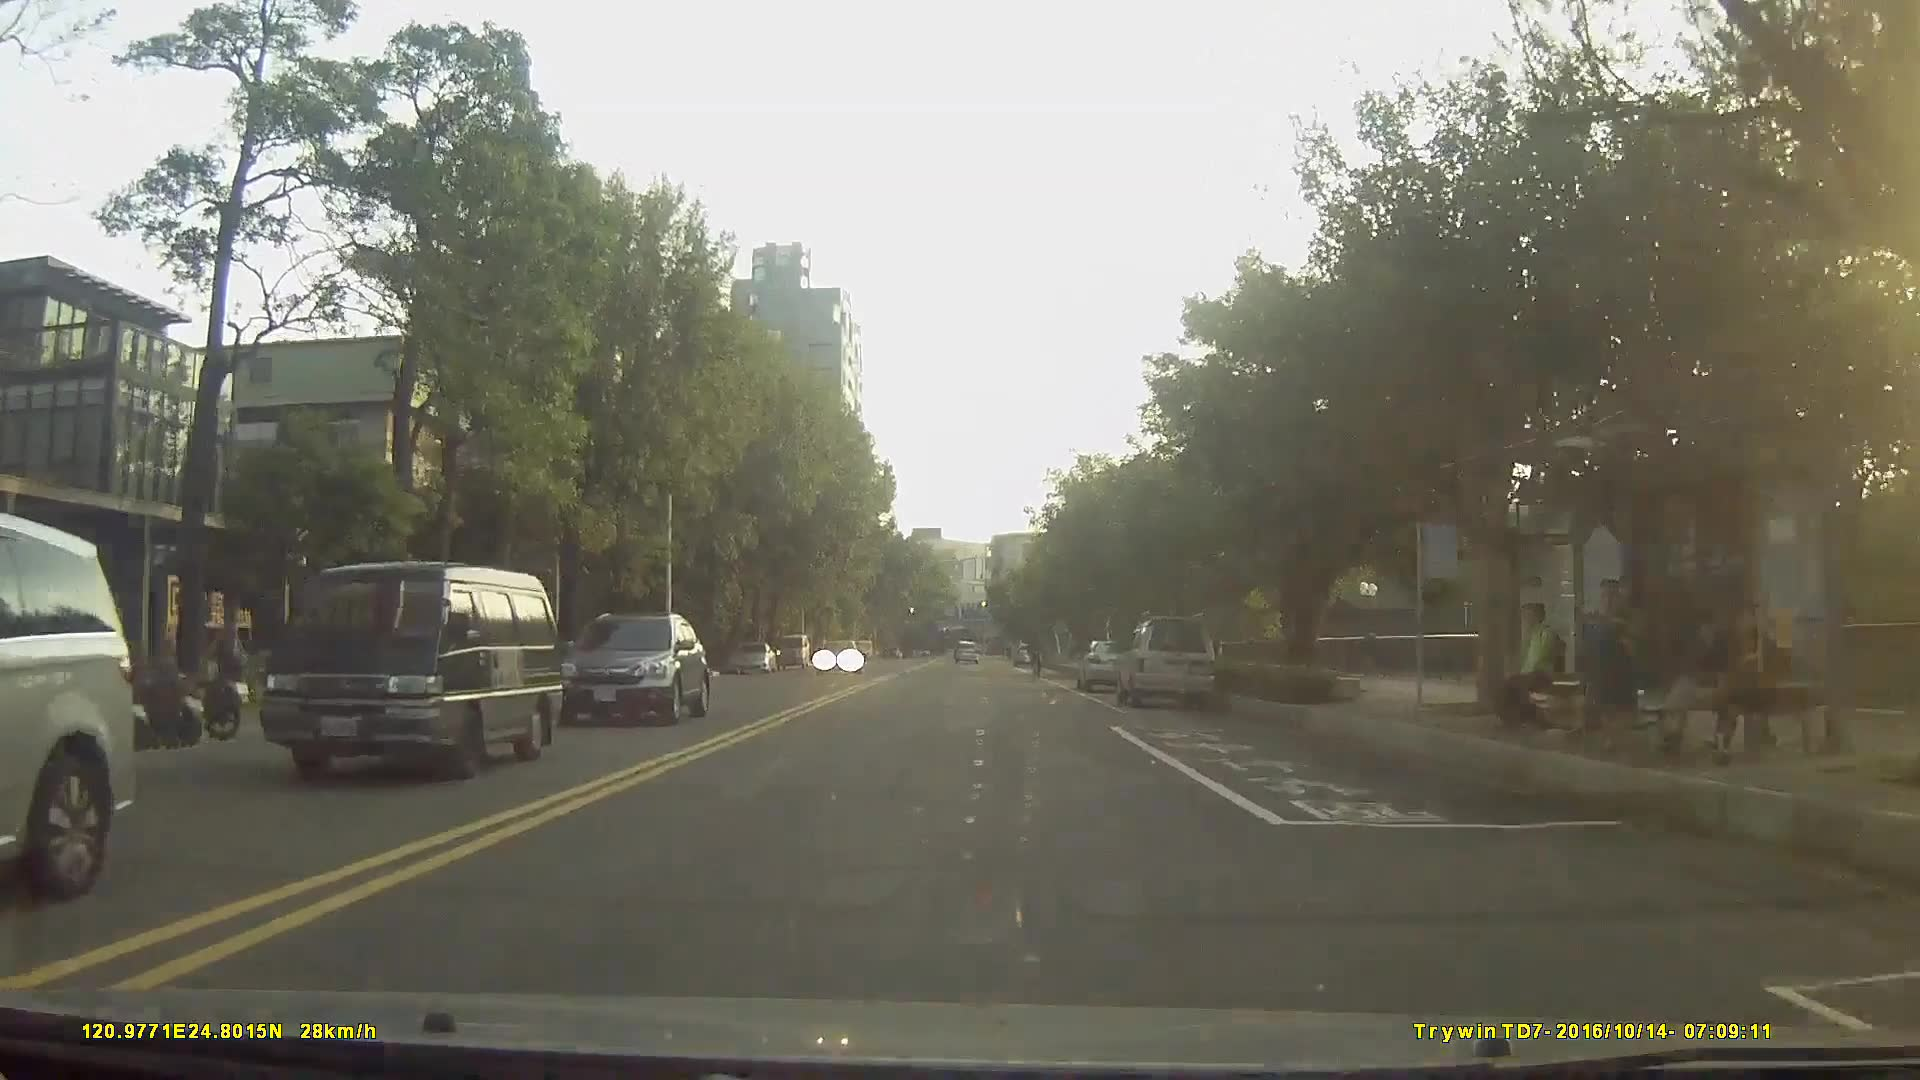pedestrian: (1708, 597, 1812, 763), (1655, 611, 1751, 761), (1575, 574, 1644, 752), (1502, 593, 1575, 732)
rider: (1027, 633, 1047, 683)
vehicle: (253, 560, 560, 786), (0, 509, 136, 903), (555, 612, 710, 725), (1115, 617, 1217, 709), (1076, 637, 1138, 691), (814, 635, 860, 673), (729, 639, 775, 675), (773, 631, 809, 671), (952, 640, 978, 667)
